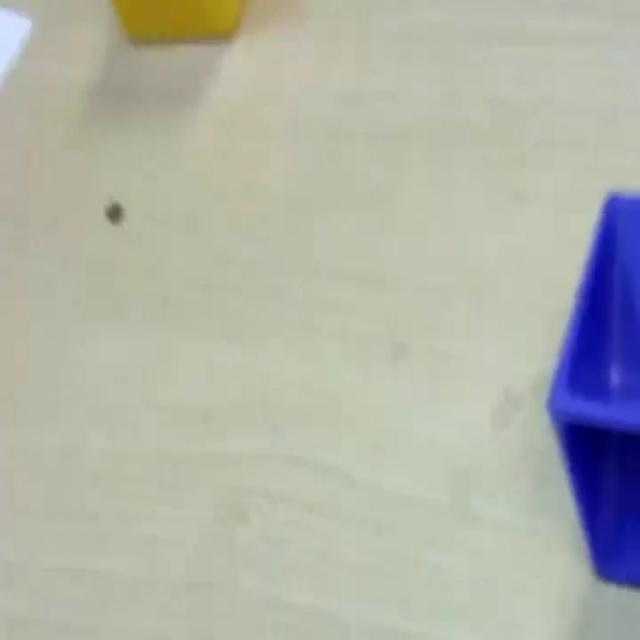blue_block: (546, 186, 638, 586)
yellow_block: (110, 0, 246, 44)
